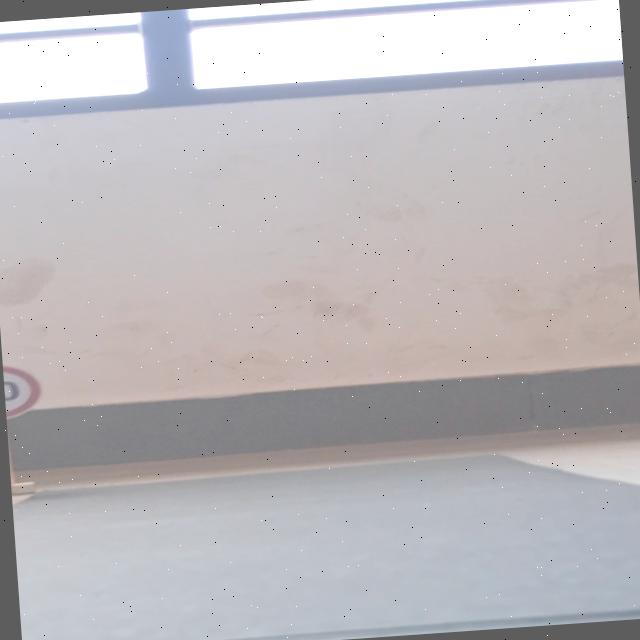Speed20: (2, 357, 56, 422)
